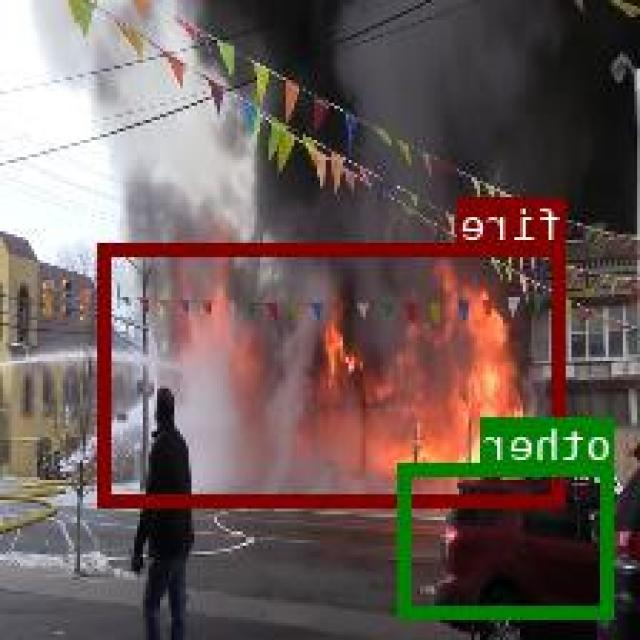fire: (102, 242, 569, 504)
other: (400, 461, 617, 616)
